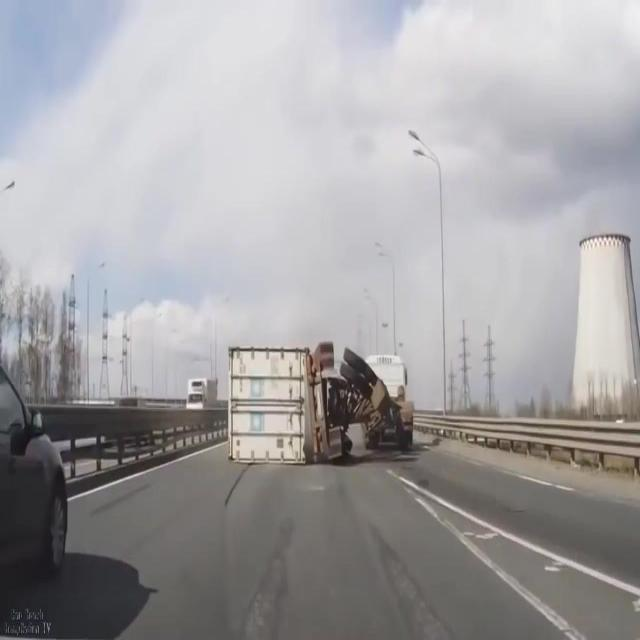severe: (222, 329, 394, 471)
